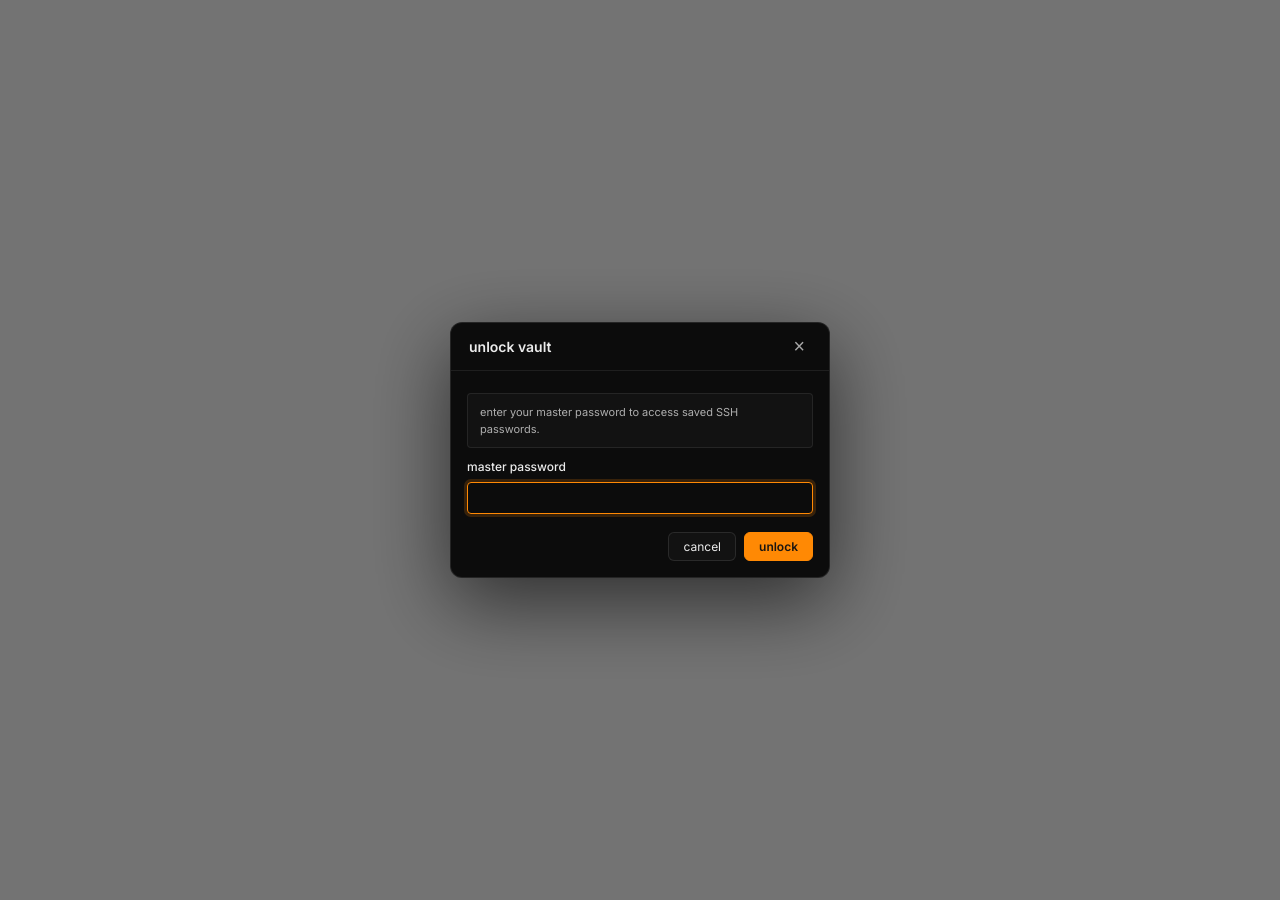
it: MasterPasswordModal - decrypting phase › disables inputs while unlock is in flight and shows decrypting overlay
Type "secret123" into the password field with class "settings-input" at (640, 498), box [467,482,813,514]
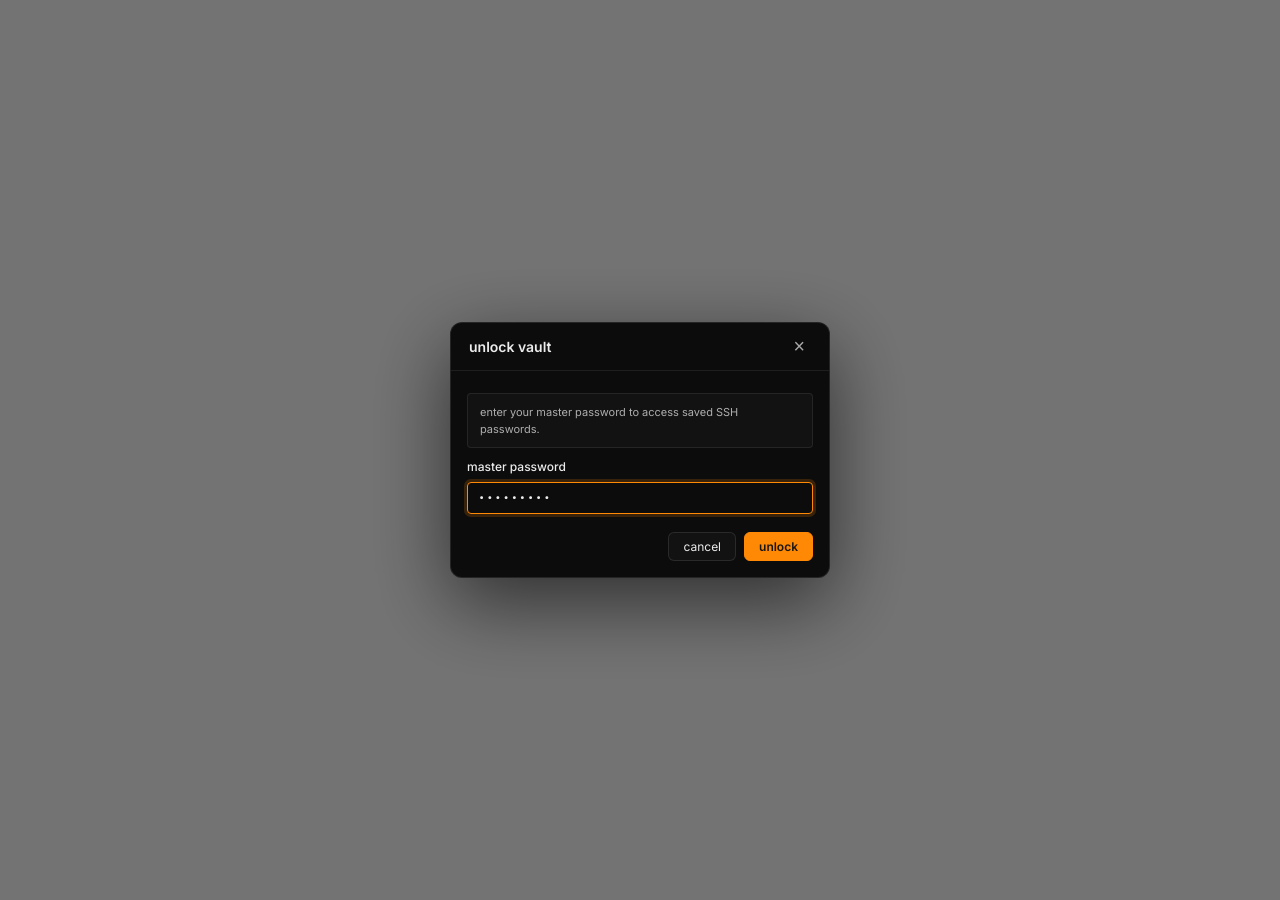
Click the button "unlock" at (778, 547), box [744,532,813,561]
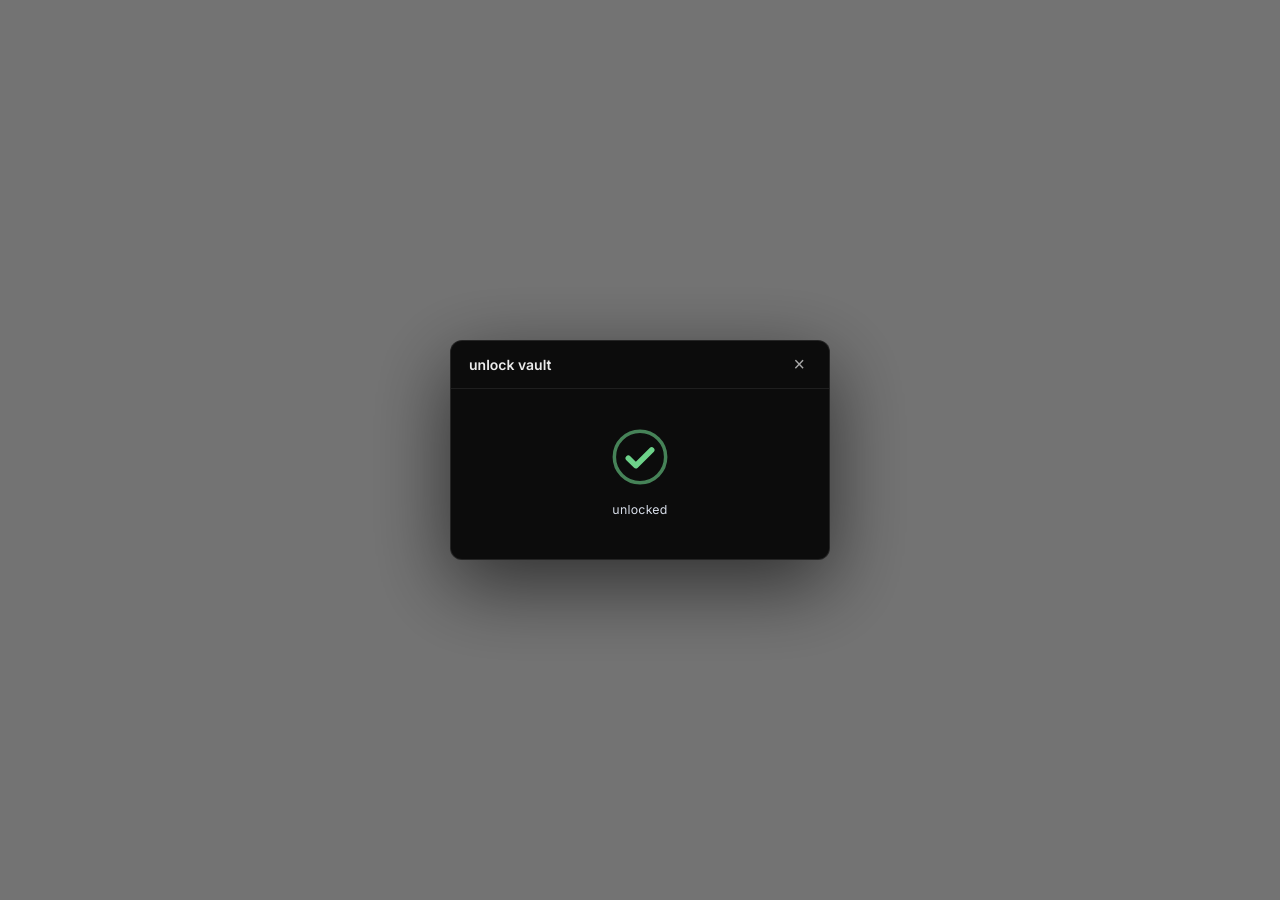
Check: the message "unlocked" is shown, box [612,429,668,517]
Check: the text "unlocked" is shown, box [612,502,668,517]
